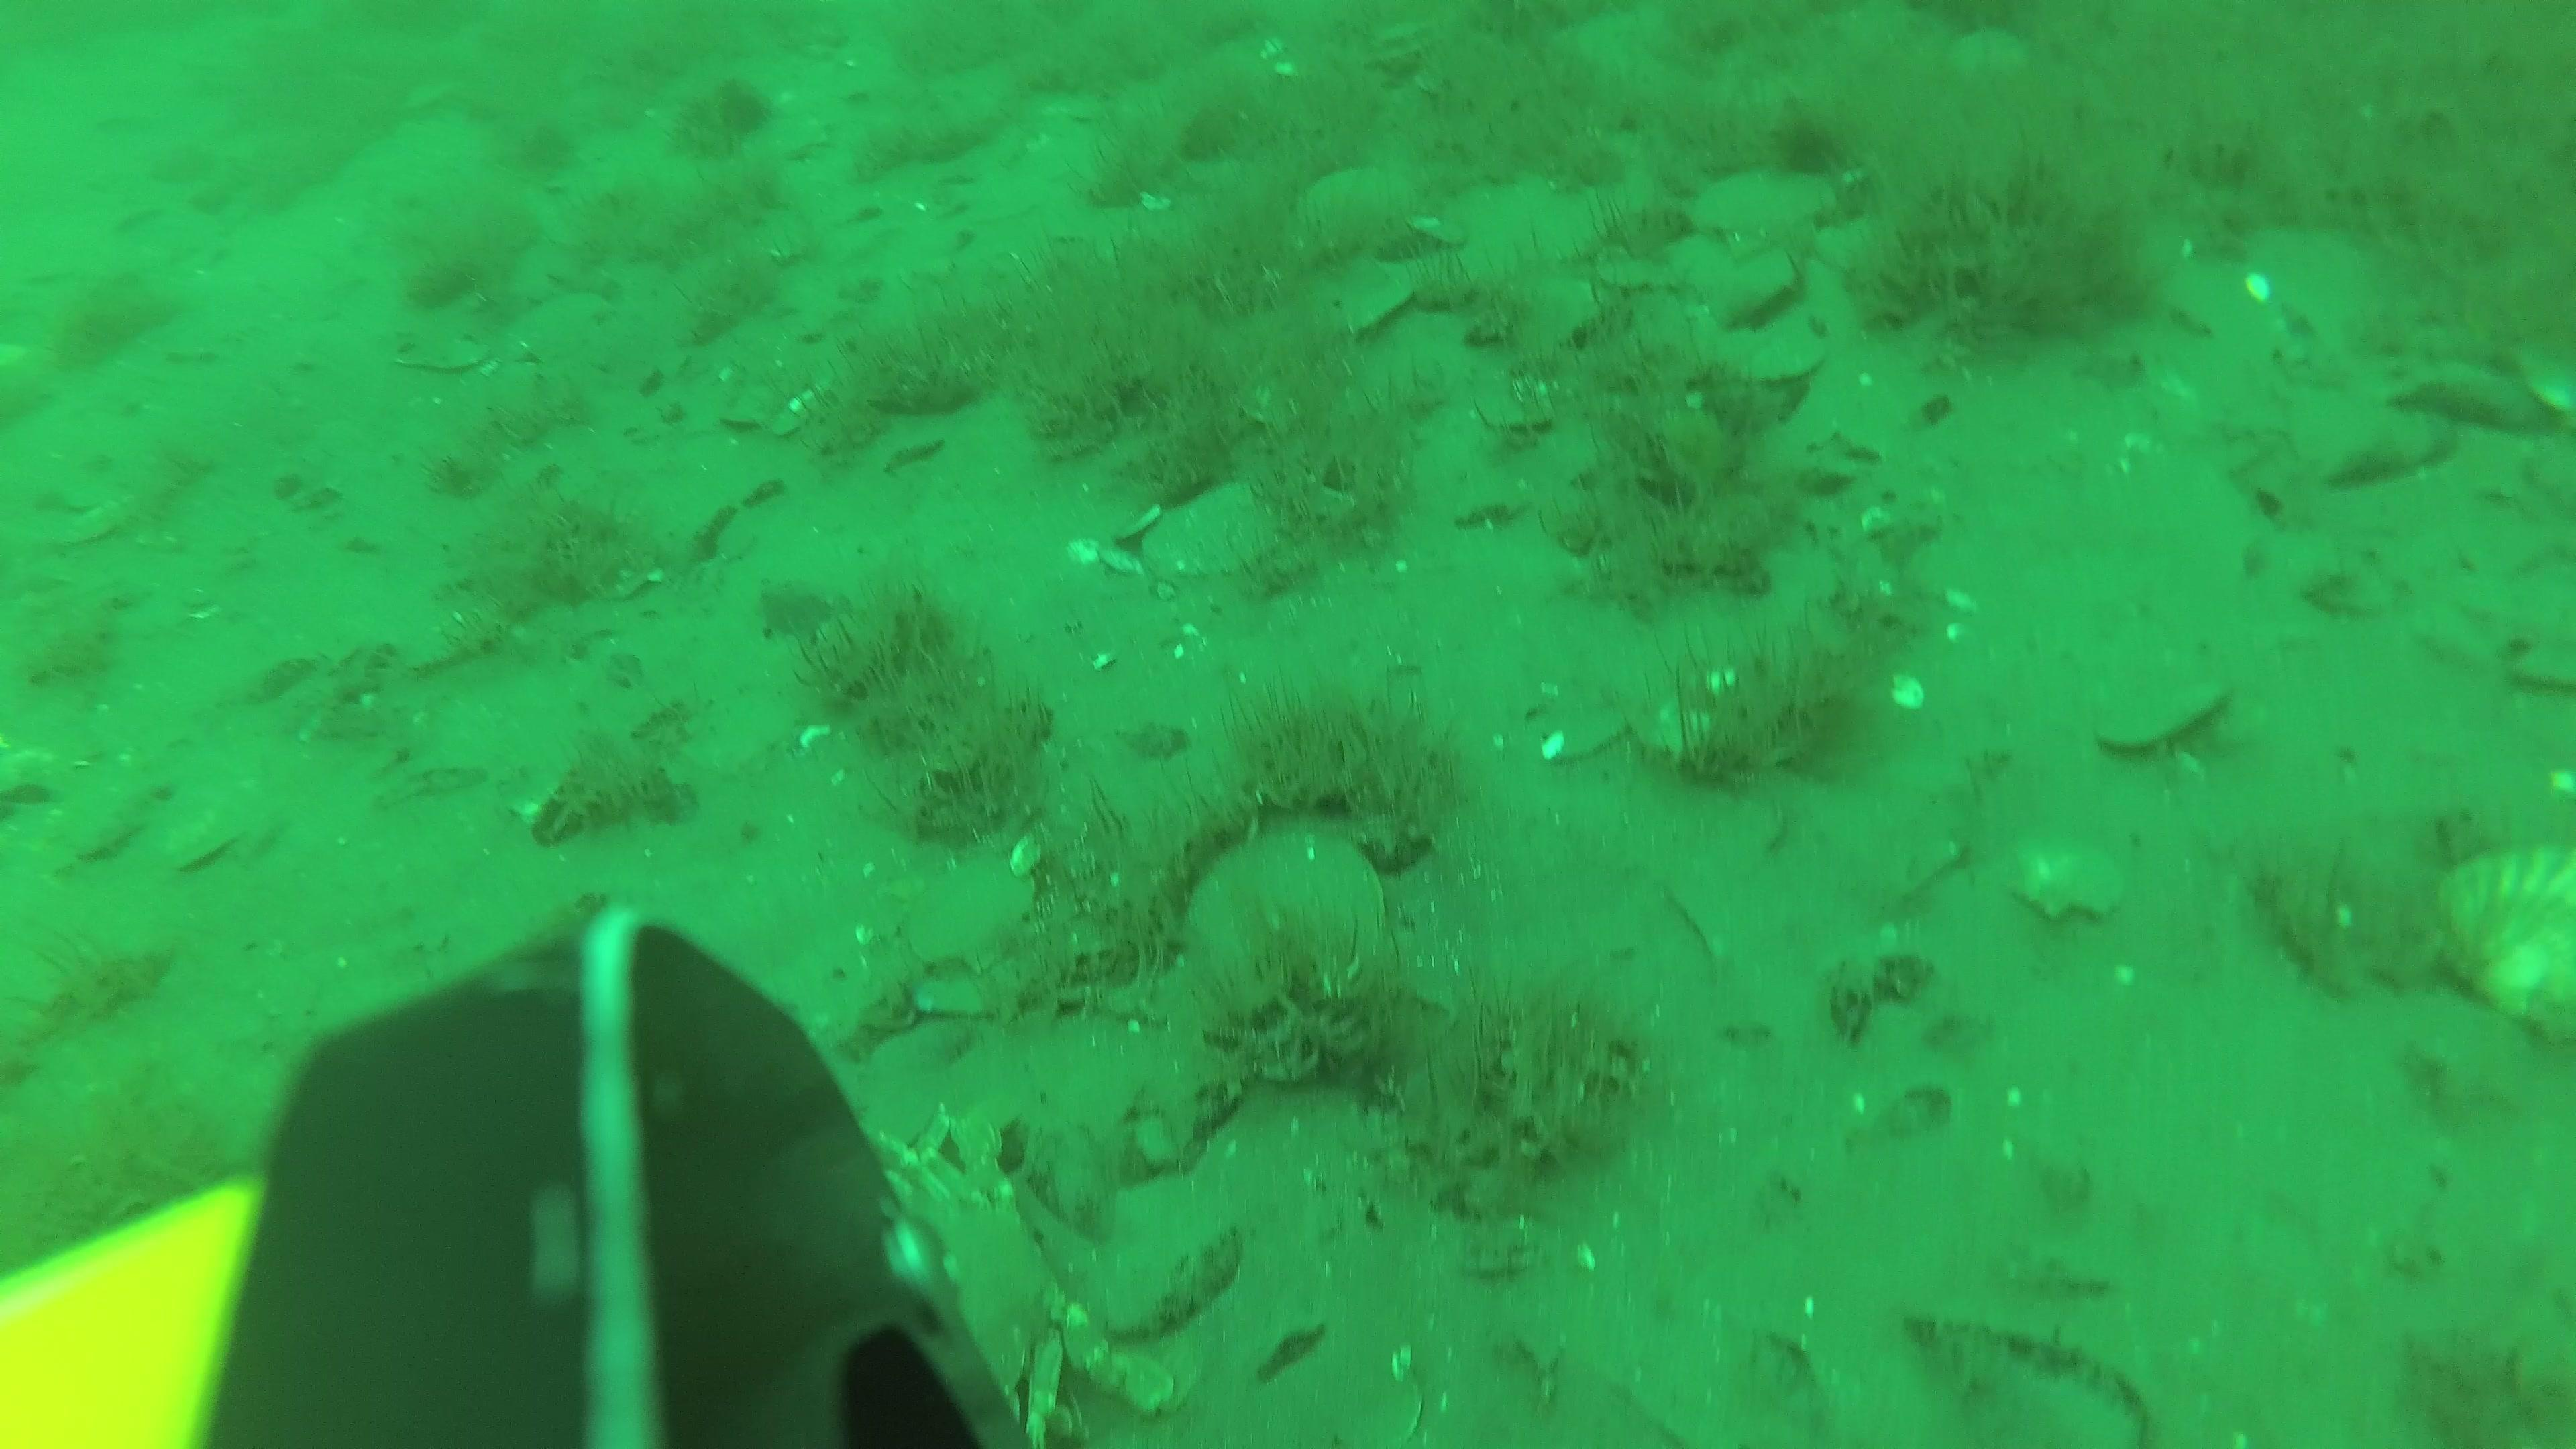scallop: (1171, 824, 1392, 1017), (2422, 828, 2576, 1062), (1131, 465, 1297, 589), (897, 846, 1051, 975), (1683, 163, 1851, 267), (2258, 529, 2396, 633), (2001, 826, 2135, 931), (1297, 161, 1438, 249), (1286, 257, 1426, 341), (2422, 568, 2562, 651), (1500, 699, 1638, 778), (499, 287, 614, 368), (1338, 1361, 1435, 1449), (2107, 695, 2238, 757), (1690, 336, 1826, 395), (1355, 11, 1463, 67), (1582, 239, 1684, 297), (957, 175, 1053, 237), (1467, 389, 1555, 439)
